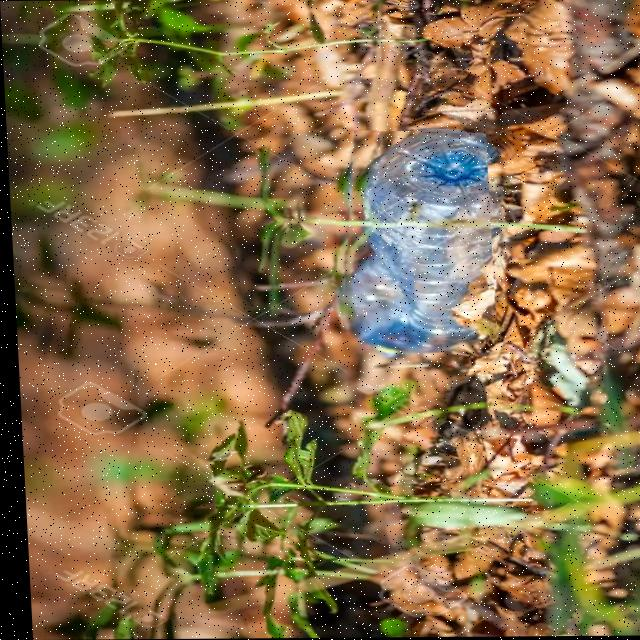plasticbottle: (329, 129, 493, 340)
